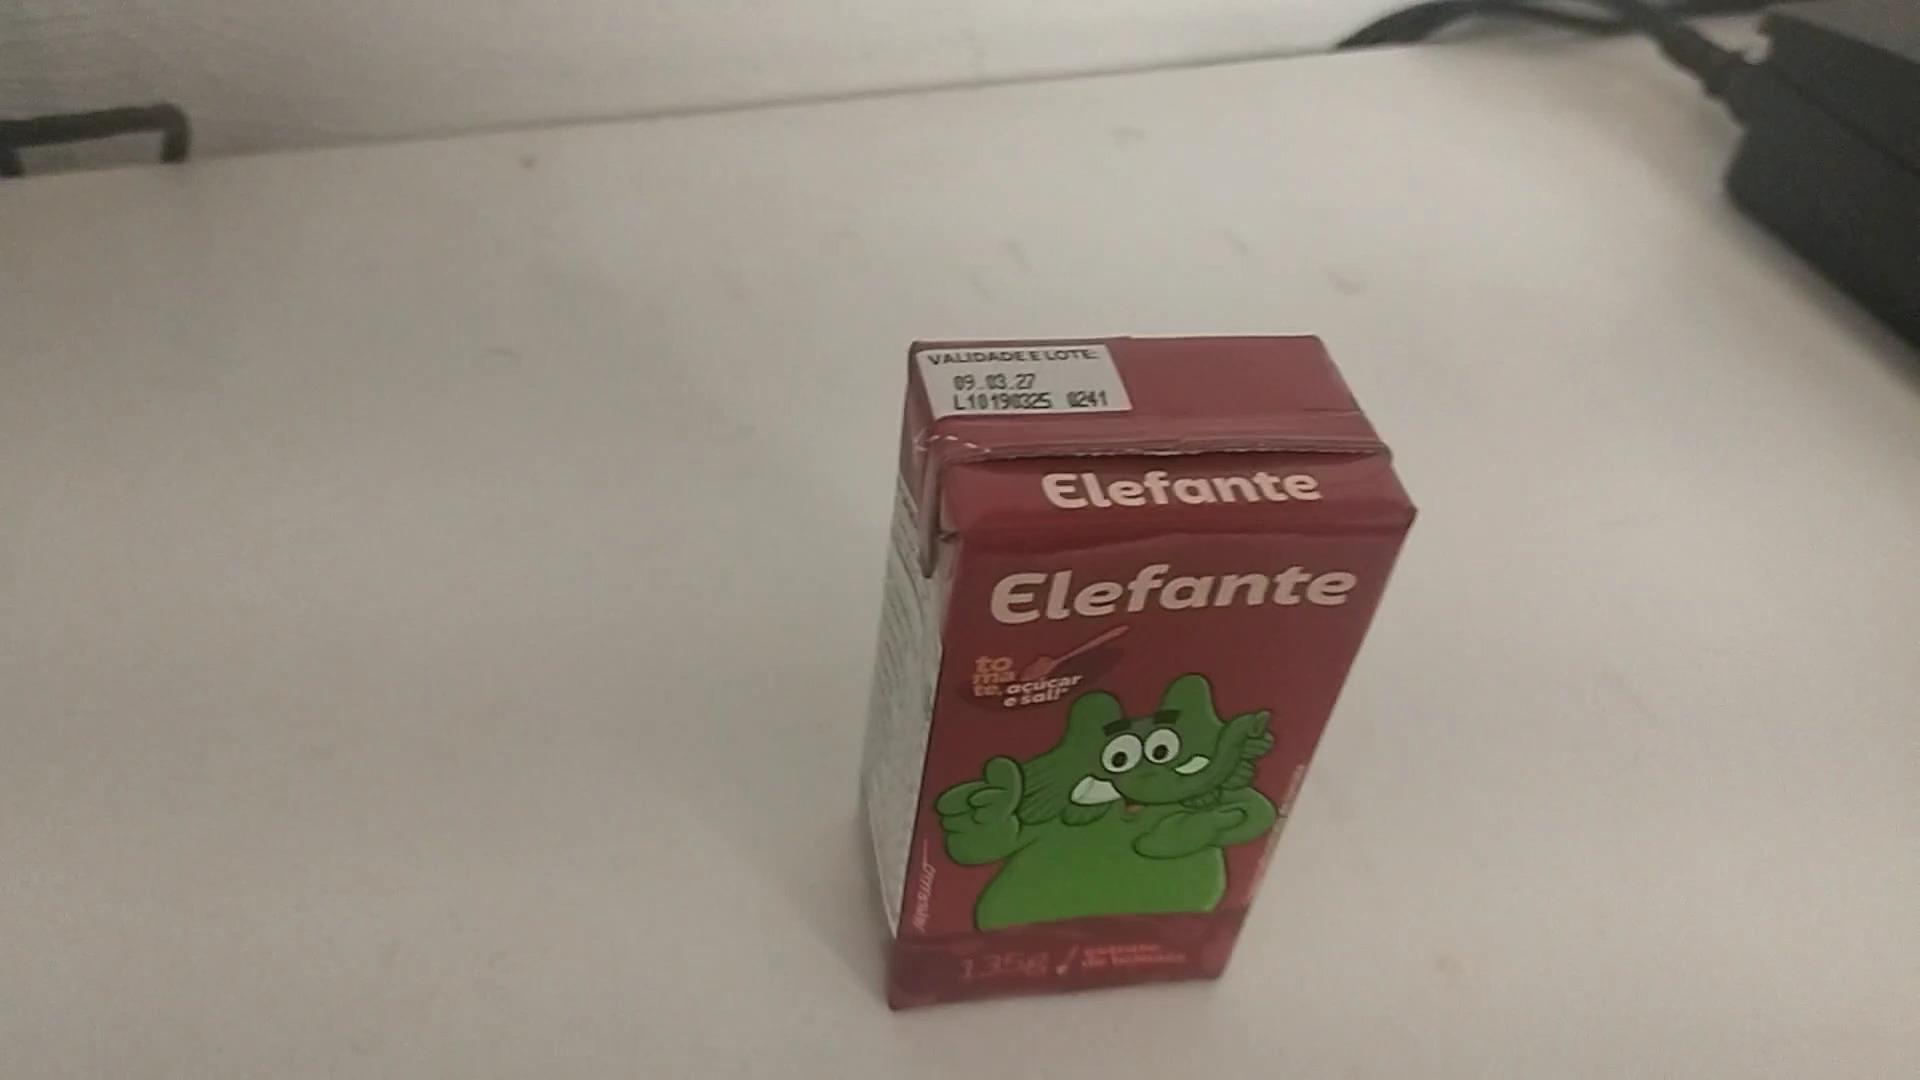tomate: (865, 331, 1422, 1010)
